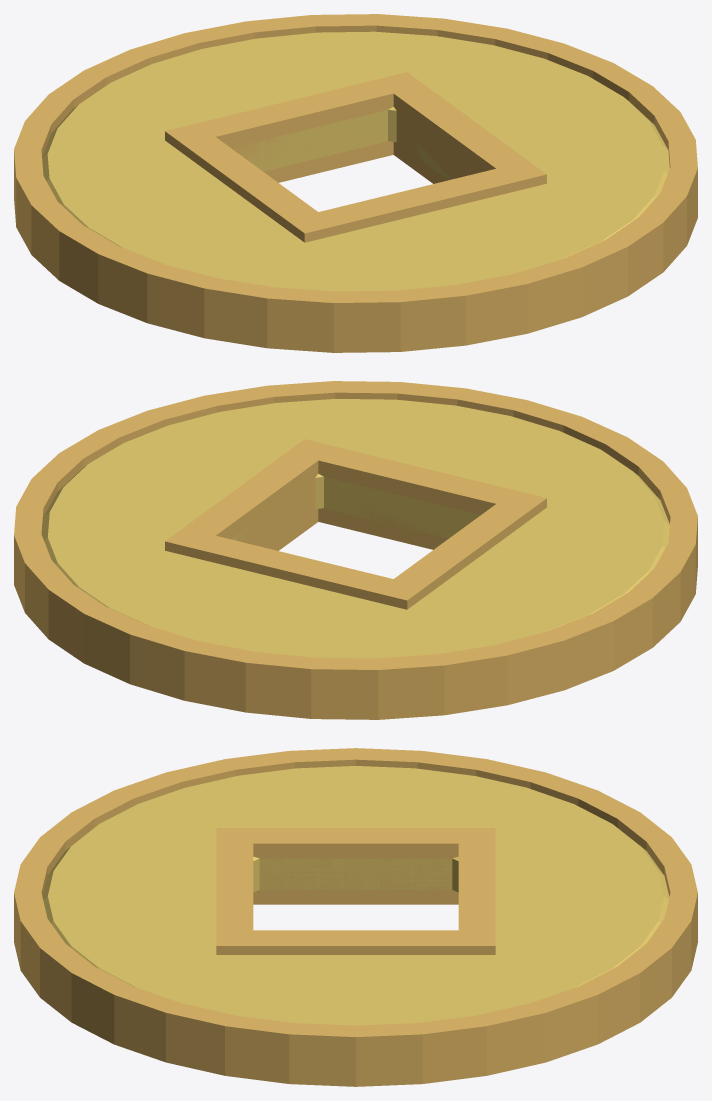
File: coin.glb
The picture shows the model from 3 angles, top to bottom: view 1: azimuth 30°, elevation 25°; view 2: azimuth 150°, elevation 25°; view 3: azimuth 270°, elevation 25°; orthographic projection.
Visible parts, largest first — view 1: 柱体, 柱体.001, 立方体.001; view 2: 柱体, 柱体.001, 立方体.001; view 3: 柱体, 柱体.001, 立方体.001.
Part boxes in pixels (x1,y1,x2,y2): 柱体: (42, 31, 669, 291); 柱体.001: (14, 14, 697, 352); 立方体.001: (165, 72, 546, 242); 柱体: (42, 399, 669, 658); 柱体.001: (14, 381, 697, 719); 立方体.001: (165, 439, 546, 609); 柱体: (42, 766, 669, 1025); 柱体.001: (14, 748, 697, 1086); 立方体.001: (216, 828, 495, 954).
Size of the model in its own units: 2.17 by 0.2148 by 2.17.
